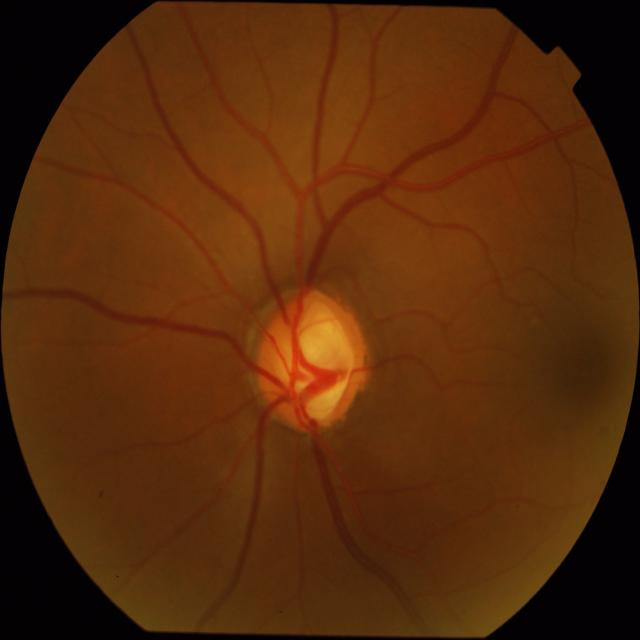OC: (267, 297, 355, 424)
OD: (256, 288, 367, 436)
